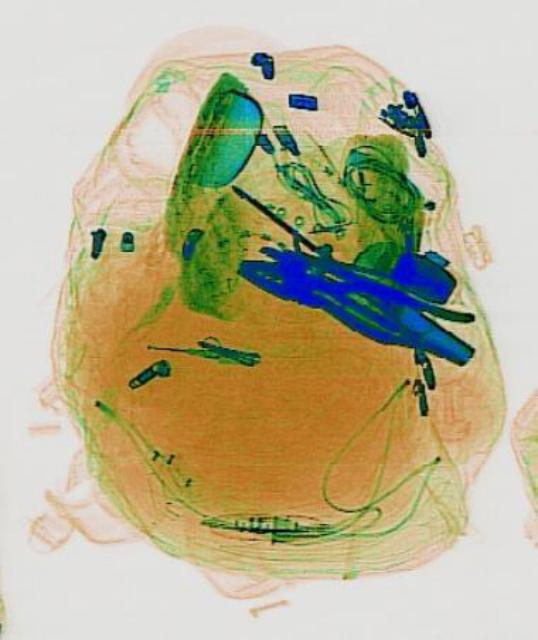Pliers: (228, 232, 474, 370)
